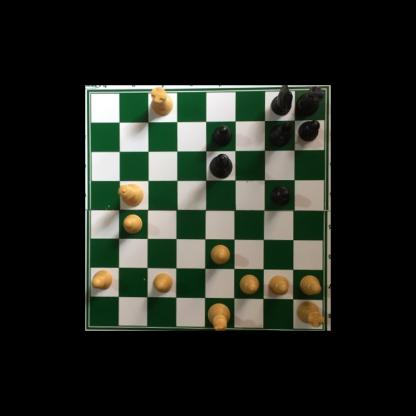black-bishop: (266, 120, 291, 147)
black-king: (209, 151, 233, 180)
black-knight: (269, 86, 294, 118)
black-pawn: (298, 119, 321, 141), (211, 125, 232, 147), (271, 186, 291, 206)
black-rook: (295, 86, 324, 117)
white-king: (206, 301, 231, 331)
white-pawn: (91, 267, 114, 291), (298, 273, 321, 297), (151, 271, 174, 294), (238, 273, 261, 296), (122, 213, 144, 236), (267, 275, 290, 296), (210, 245, 231, 265)
white-queen: (115, 182, 144, 207)
white-rook: (294, 298, 324, 328), (148, 87, 173, 118)
